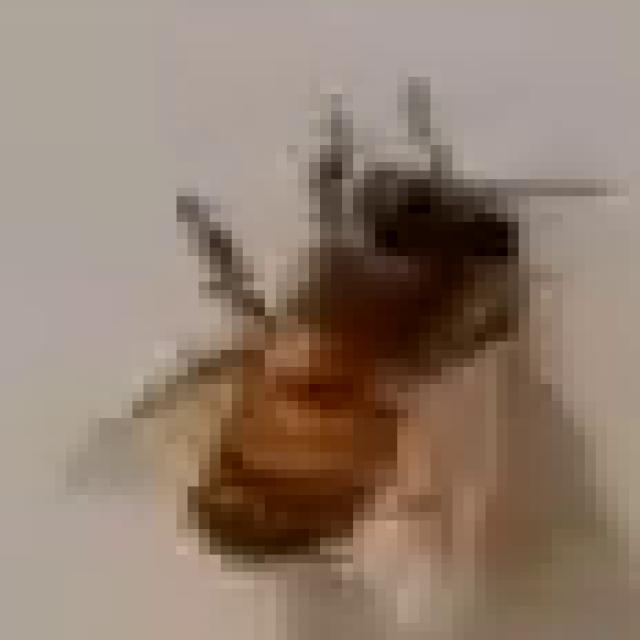honeybee: (123, 110, 586, 610)
